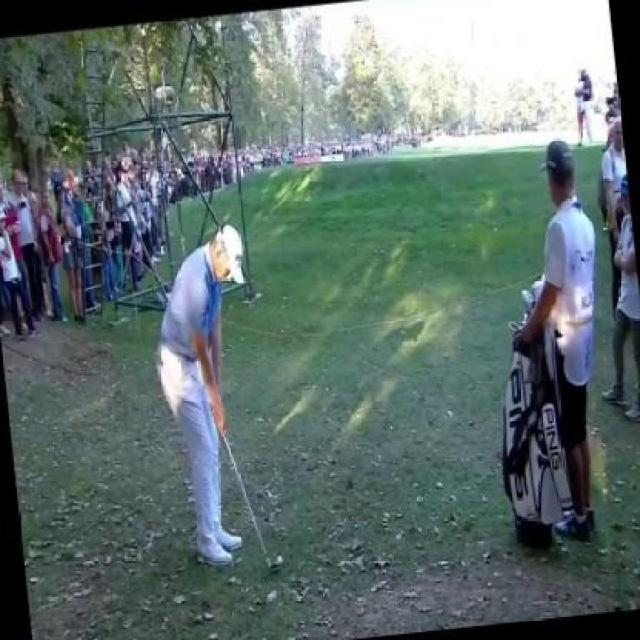non-fight: (142, 222, 275, 570)
